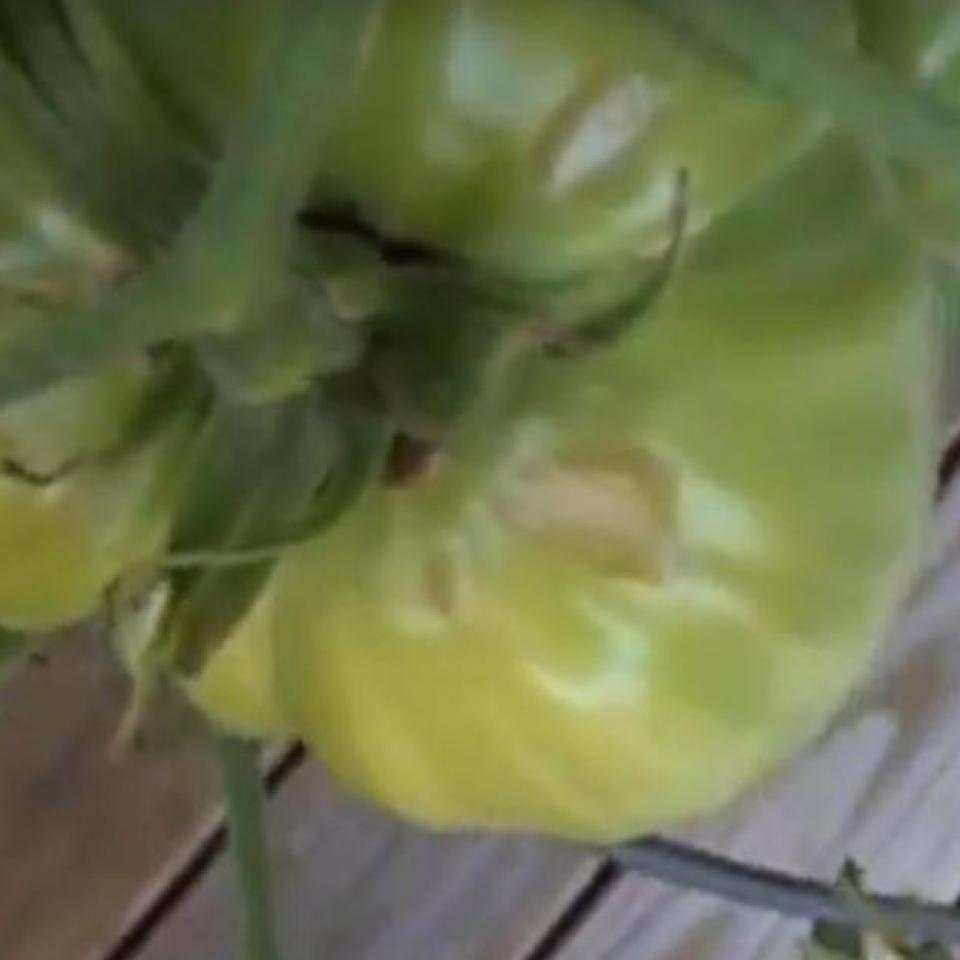Sunscald: (329, 430, 784, 657), (523, 60, 679, 208)
